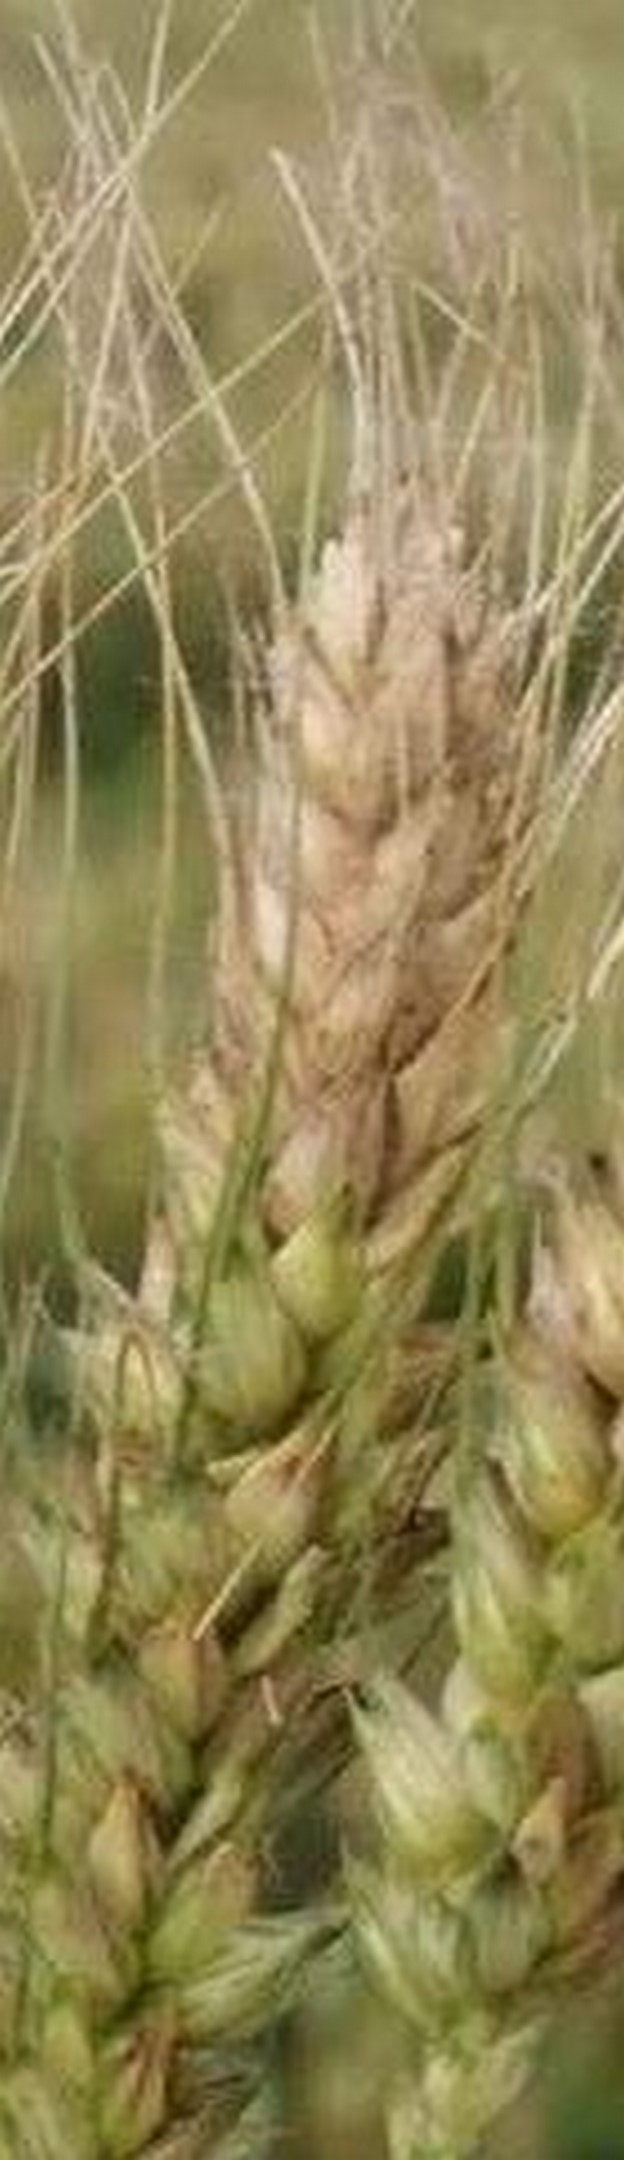Wheat scab: (34, 433, 576, 2048)
